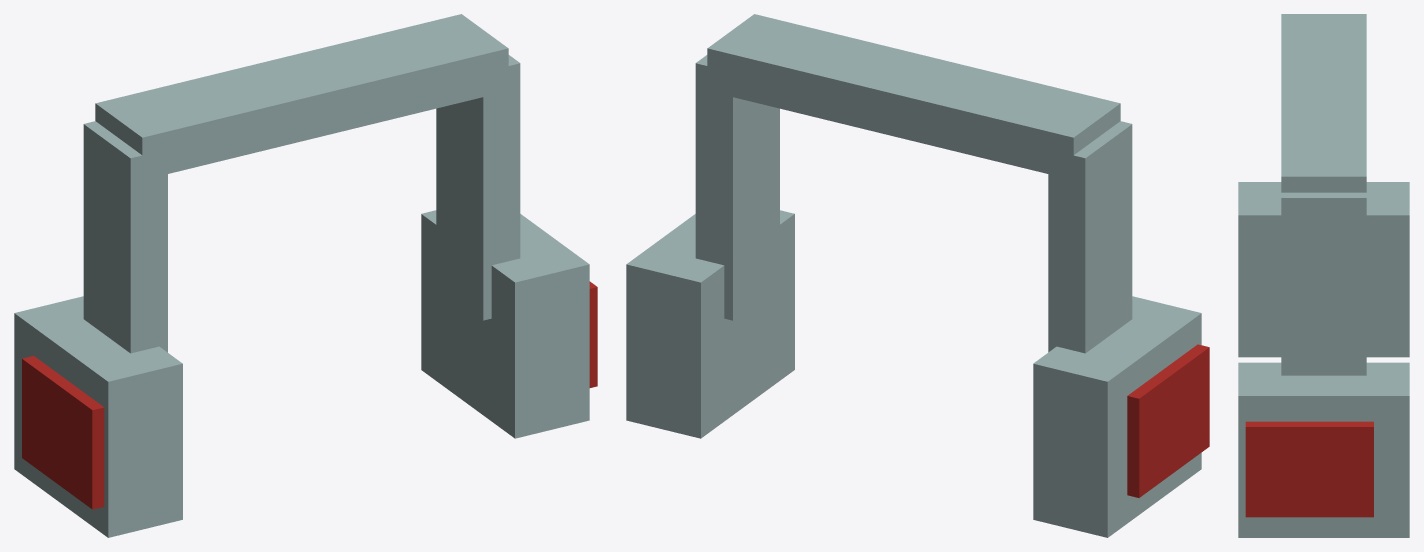
The model's file is silver_headphones.glb.
The picture shows the model from 3 angles, left to right: view 1: azimuth 30°, elevation 25°; view 2: azimuth 150°, elevation 25°; view 3: azimuth 270°, elevation 25°; orthographic projection. The views are drawn at different scales.
Visible parts, largest first — view 1: silver_headphones; view 2: silver_headphones; view 3: silver_headphones.
Boxes of the visible parts, left/top/right/bottom form: silver_headphones: left=14, top=14, right=597, bottom=537; silver_headphones: left=626, top=14, right=1209, bottom=537; silver_headphones: left=1238, top=14, right=1409, bottom=537.
Size of the model in its own units: 0.745 by 0.52 by 0.24.
